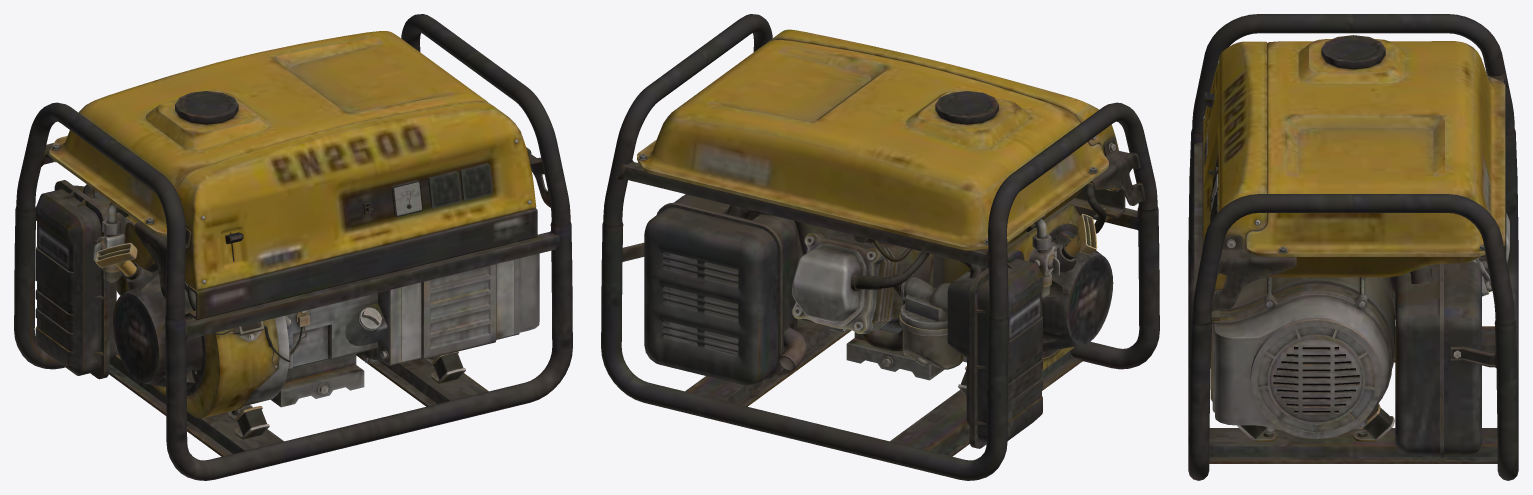
File: generator.glb
The picture shows the model from 3 angles, left to right: view 1: azimuth 30°, elevation 25°; view 2: azimuth 150°, elevation 25°; view 3: azimuth 270°, elevation 25°; orthographic projection.
Visible parts, largest first — view 1: portable_generator; view 2: portable_generator; view 3: portable_generator.
Boxes of the visible parts, box(x1,y1,x2,y2) form: portable_generator: box(14, 14, 572, 480); portable_generator: box(601, 14, 1159, 480); portable_generator: box(1188, 14, 1518, 480).
Bounding box in the file's own units: 0.8183 × 0.5769 × 0.564.
Materials: 2 (2 with a texture image).
